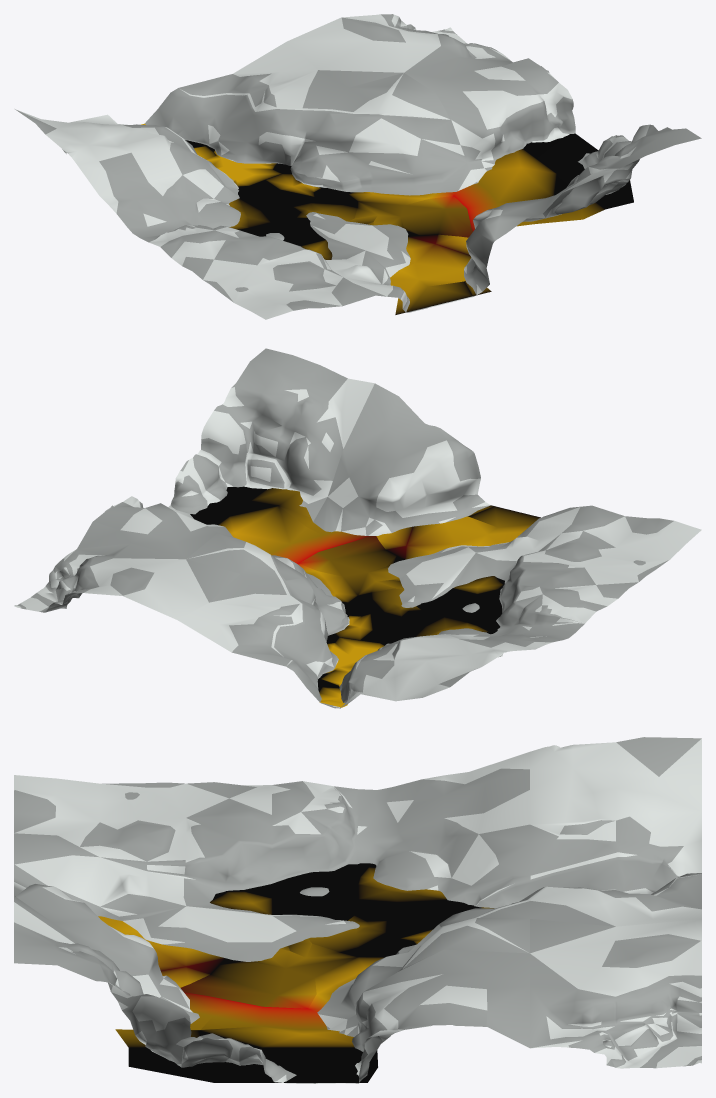
3 renders of one model, top to bottom at view 1: azimuth 30°, elevation 25°; view 2: azimuth 150°, elevation 25°; view 3: azimuth 270°, elevation 25°, orthographic. The views are drawn at different scales.
Visible parts, largest first — view 1: G:\FFXIV-MapTools\exports\f1f3\bg\ffxiv\fst_f1\fld\f1f3\bgpl (×22); view 2: G:\FFXIV-MapTools\exports\f1f3\bg\ffxiv\fst_f1\fld\f1f3\bgpl (×17); view 3: G:\FFXIV-MapTools\exports\f1f3\bg\ffxiv\fst_f1\fld\f1f3\bgpl (×25).
Boxes of the visible parts, x1,y1,x2,y2 form: G:\FFXIV-MapTools\exports\f1f3\bg\ffxiv\fst_f1\fld\f1f3\bgpl (×22): (15, 14, 701, 319); G:\FFXIV-MapTools\exports\f1f3\bg\ffxiv\fst_f1\fld\f1f3\bgpl (×17): (18, 348, 701, 708); G:\FFXIV-MapTools\exports\f1f3\bg\ffxiv\fst_f1\fld\f1f3\bgpl (×25): (14, 737, 701, 1083).
Size of the model in its own units: 128 by 29.68 by 128.
